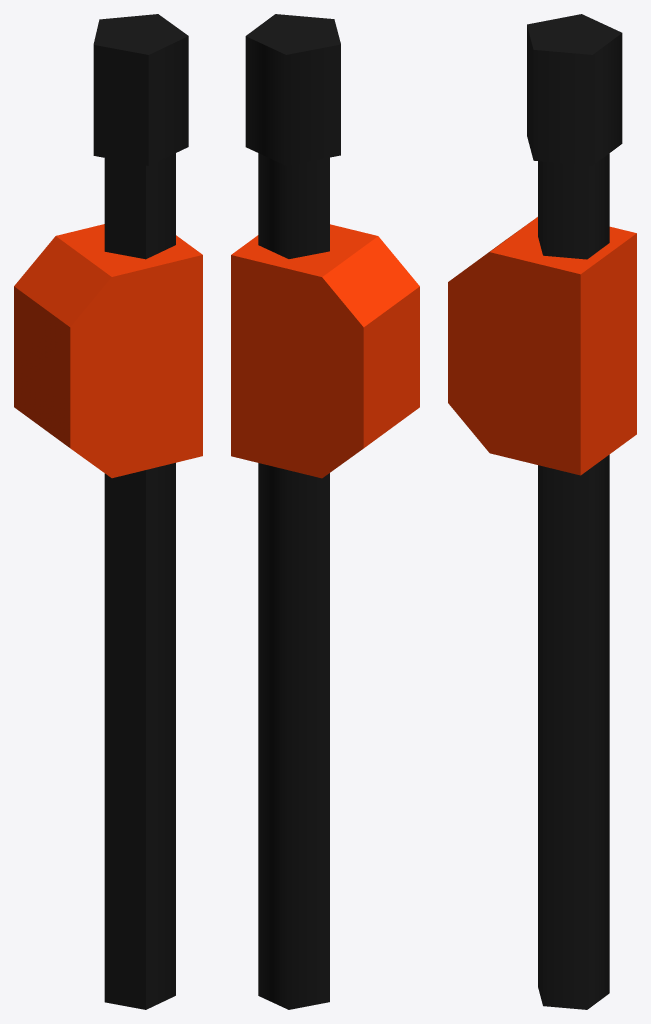
Rendered from Valve_Base.fbx.
The picture shows the model from 3 angles, left to right: view 1: azimuth 30°, elevation 25°; view 2: azimuth 150°, elevation 25°; view 3: azimuth 330°, elevation 25°; orthographic projection.
Visible parts, largest first — view 1: Valve_Base; view 2: Valve_Base; view 3: Valve_Base.
Part boxes in pixels (<box>): Valve_Base: <box>14,14,202,1009</box>; Valve_Base: <box>231,14,419,1009</box>; Valve_Base: <box>448,14,636,1009</box>.
Size of the model in its own units: 11.79 by 81.48 by 8.64.
